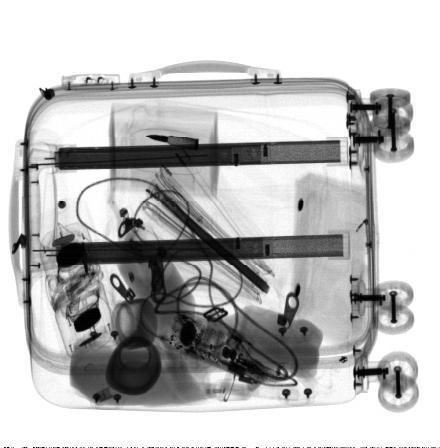Bullet: (143, 135, 199, 151)
